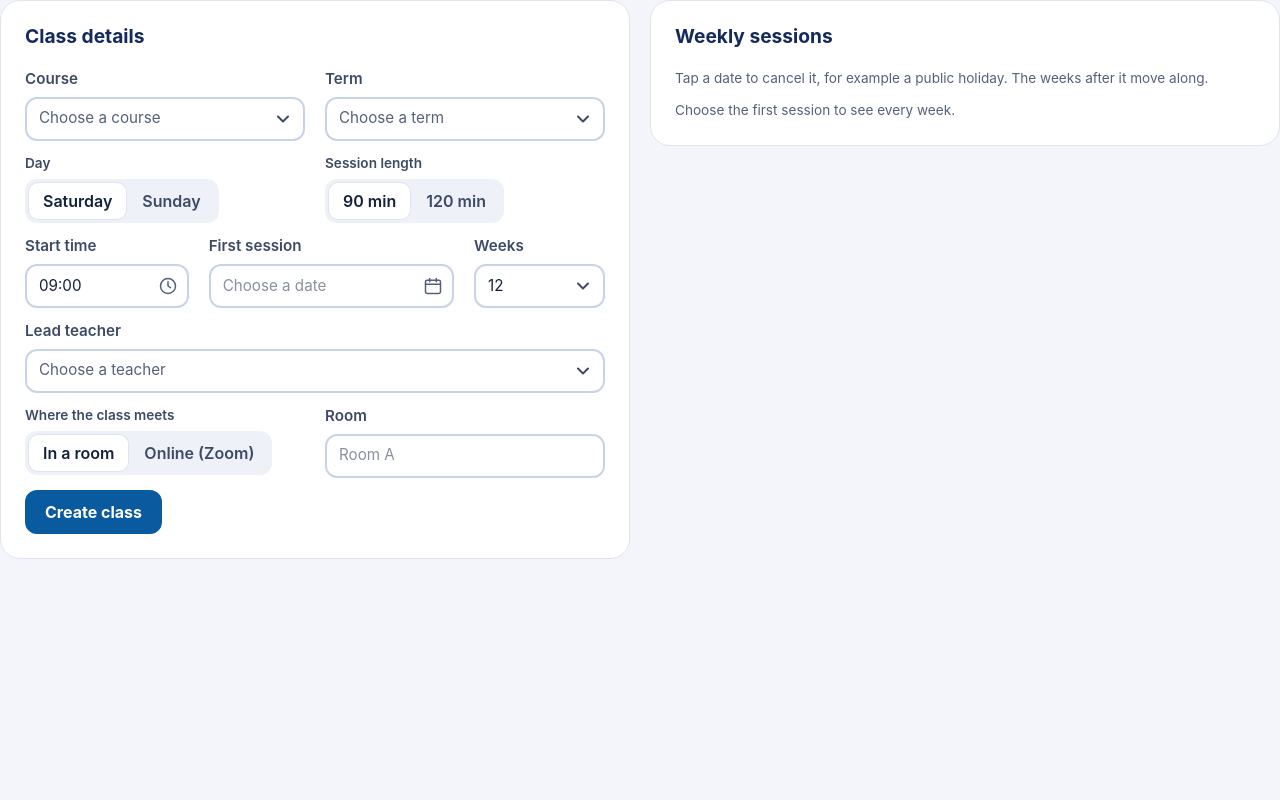
Test: NewClassForm › follows the chosen length and number of weeks
The width and height of the screenshot is (1280, 800).
Click the radio button labelled "120 min". click: (456, 201)
box: [426,191,486,211]
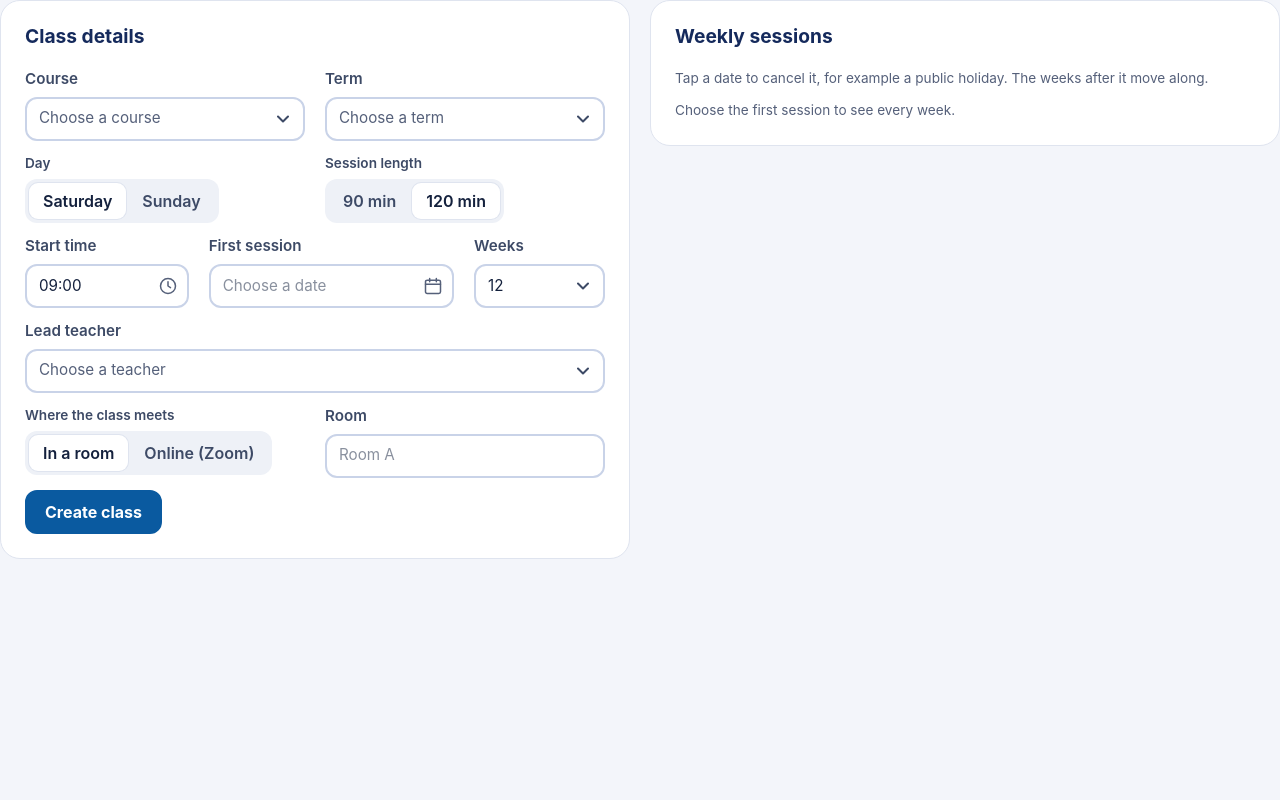
Click the dropdown named "Weeks". click: (540, 286)
box: [474,264,605,308]
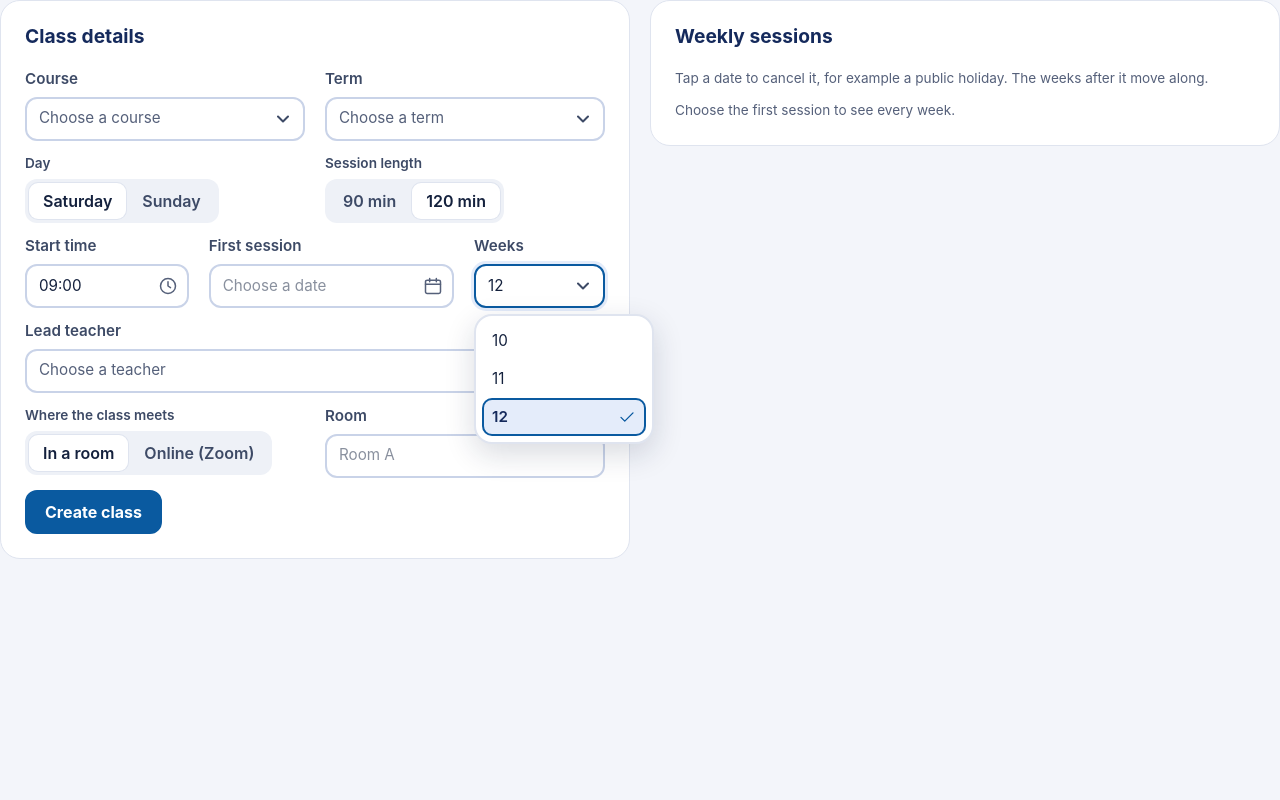
Click the option "10". click: (500, 340)
box: [492,331,508,350]
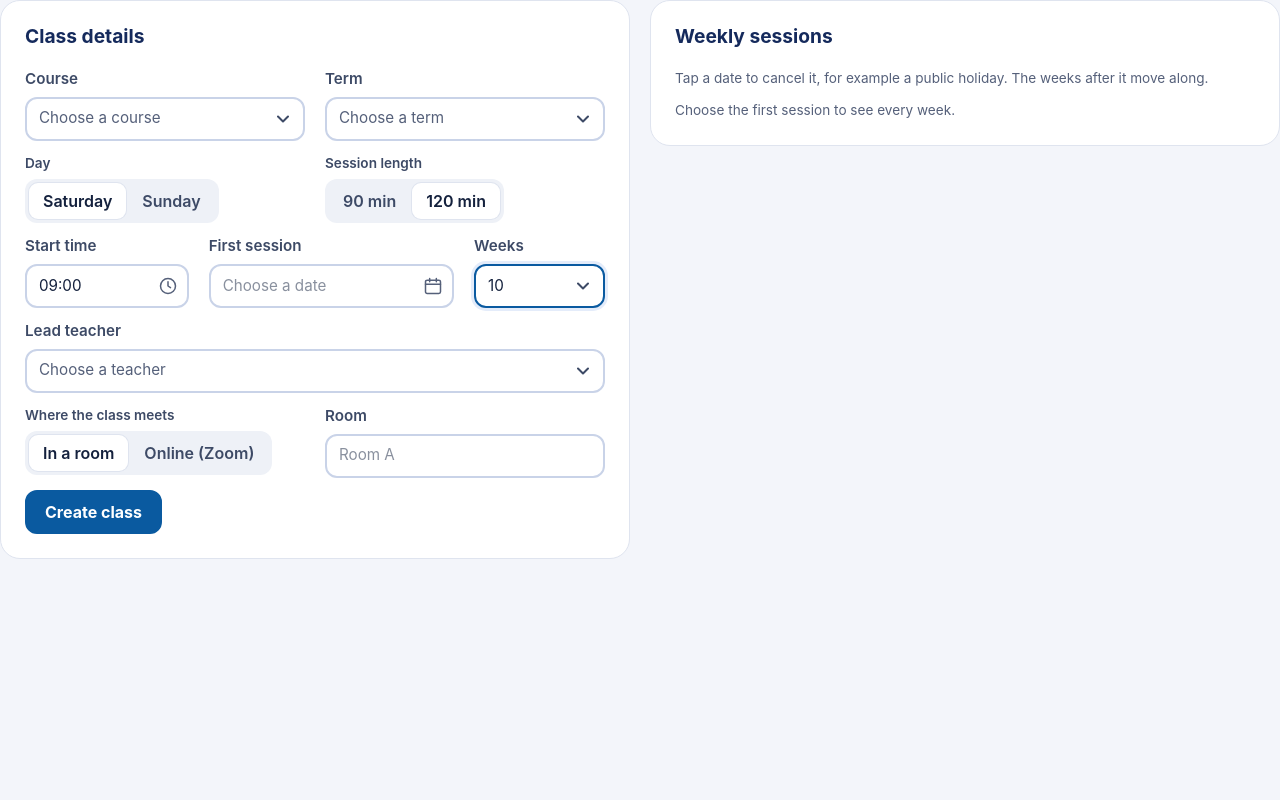
Type "2027-01-09" into the dropdown labelled "First session". click: (331, 286)
box: [209,264,454,308]
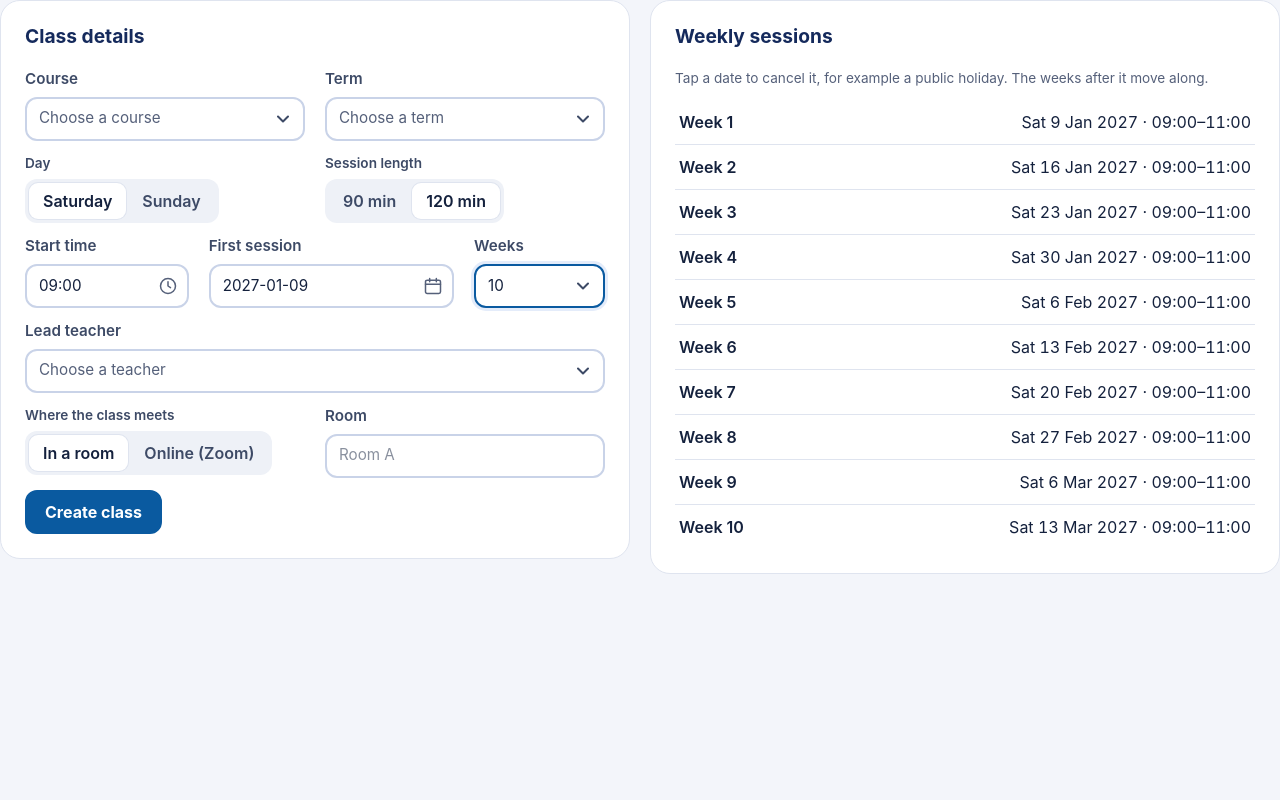
Now the number of list items is 10
Now the list item "Week 1 Sat 9 Jan 2027 · 09:00–11:00" is shown, box [675,100,1255,144]
